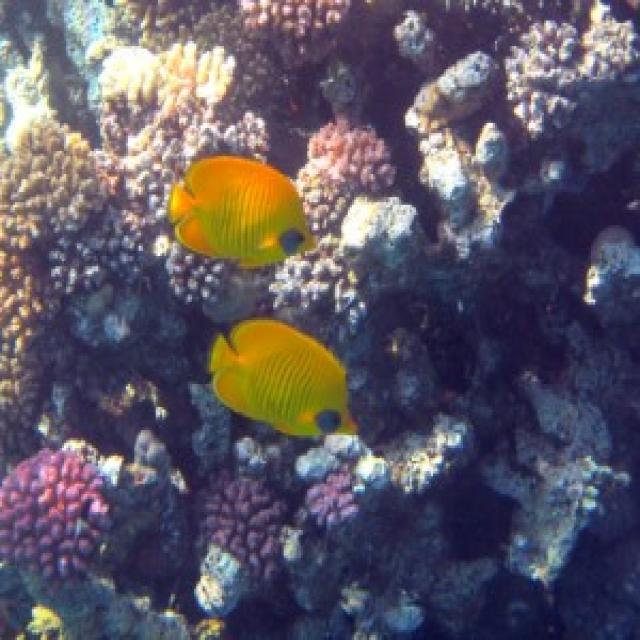Bleached: (487, 385, 628, 585), (340, 198, 421, 285), (381, 418, 472, 493), (586, 226, 639, 326), (195, 544, 251, 615), (298, 436, 370, 480)
Healthy: (103, 47, 266, 301), (1, 119, 99, 421), (406, 52, 517, 257), (509, 1, 639, 170), (50, 190, 148, 344), (1, 449, 112, 580), (298, 119, 396, 239), (283, 454, 389, 562), (199, 469, 287, 595), (270, 237, 366, 339), (238, 1, 351, 65)
